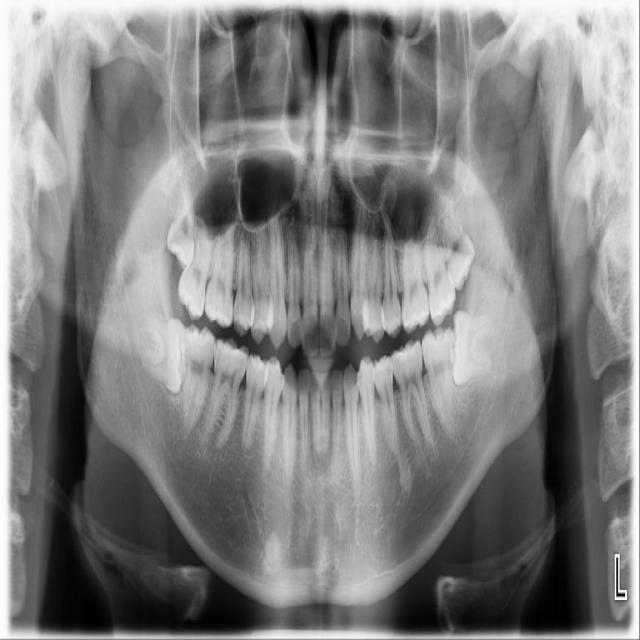Periapical lesion: (307, 445, 332, 478), (205, 430, 218, 451), (242, 438, 257, 455), (380, 209, 392, 225)
impacted tooth: (131, 314, 186, 390), (449, 309, 499, 386), (166, 171, 195, 263)
